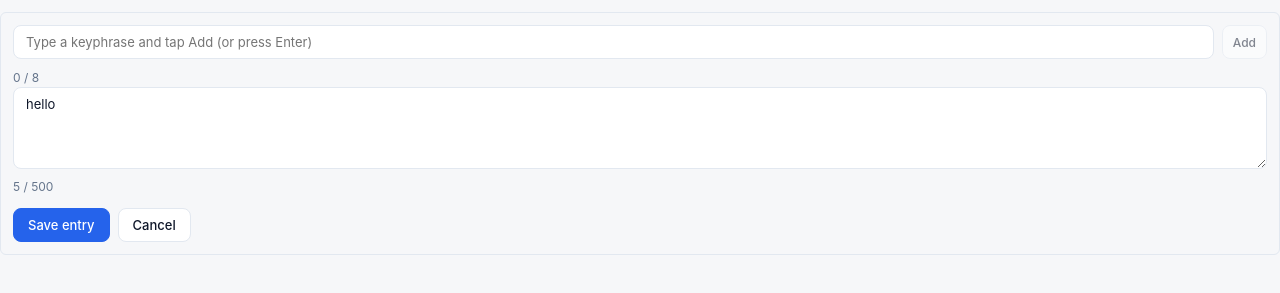
Test: JournalEntryForm › commits a keyphrase when Enter is pressed
Type "foo" into the field with test id "keyphrase-input" at (613, 42), box x1=13 y1=25 x2=1214 y2=59
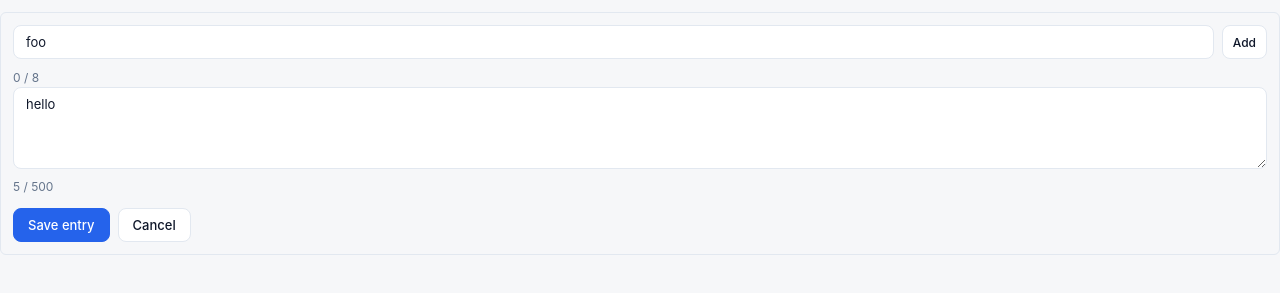
Press Enter in the field with test id "keyphrase-input", box x1=13 y1=25 x2=1214 y2=59
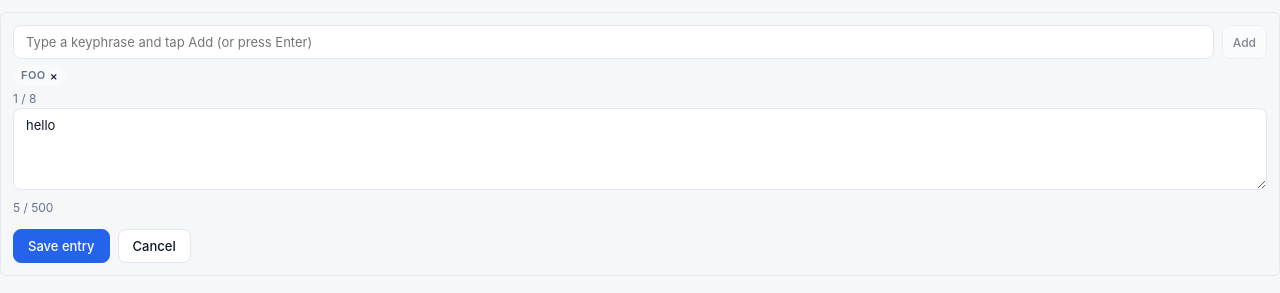
expect the text "foo" is shown: met, box x1=21 y1=68 x2=46 y2=82
expect the field with test id "keyphrase-input" is empty: met, box x1=13 y1=25 x2=1214 y2=59
